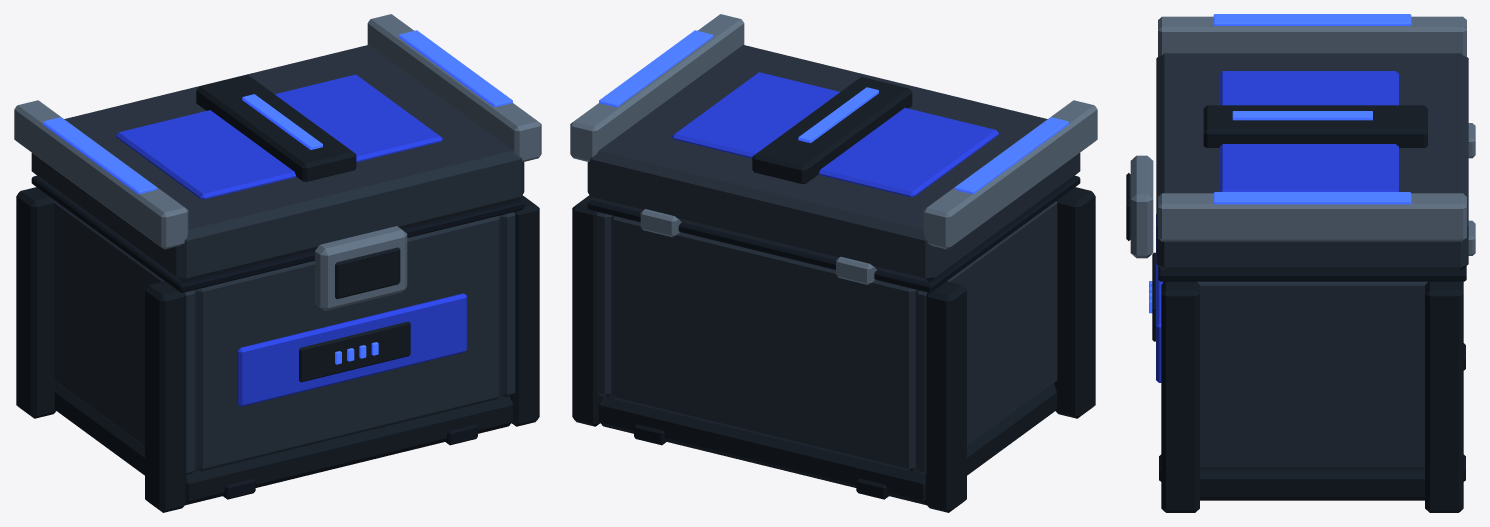
Rendered from EpicChest.glb.
The picture shows the model from 3 angles, left to right: view 1: azimuth 30°, elevation 25°; view 2: azimuth 150°, elevation 25°; view 3: azimuth 270°, elevation 25°; orthographic projection. The views are drawn at different scales.
Visible parts, largest first — view 1: Body, Lid; view 2: Body, Lid; view 3: Lid, Body.
Boxes of the visible parts, x1=… form: Body: x1=16, y1=187, x2=539, y2=512; Lid: x1=14, y1=14, x2=541, y2=292; Body: x1=572, y1=187, x2=1095, y2=512; Lid: x1=570, y1=14, x2=1097, y2=292; Lid: x1=1156, y1=14, x2=1475, y2=281; Body: x1=1126, y1=155, x2=1465, y2=512.
Size of the model in its own units: 1.4 by 1.07 by 1.09.
1 material, 1 textured.
